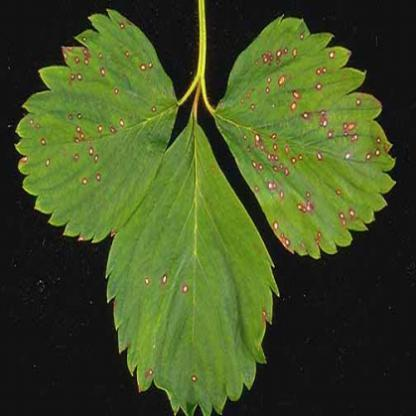Strawberry_Leaf_Spot: (105, 108, 280, 415), (214, 13, 398, 260), (13, 8, 180, 244)
